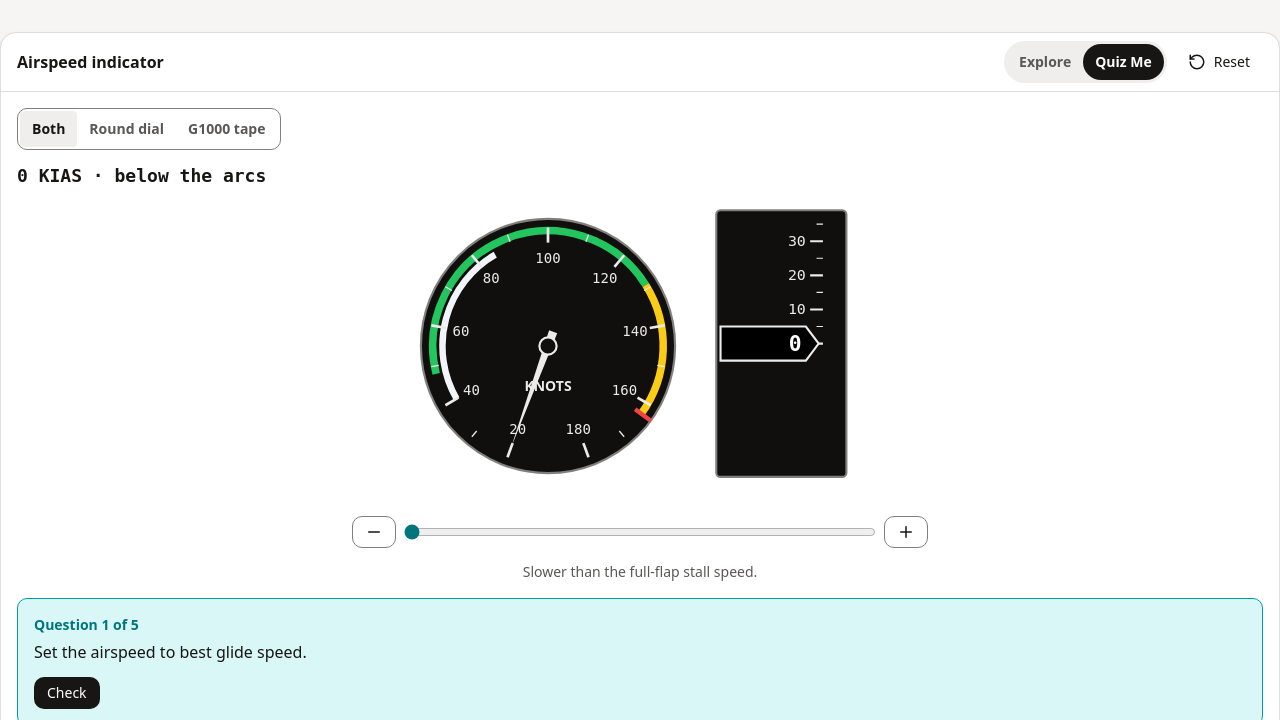
Test case: W3 Airspeed indicator › runs the quiz mode and reports answers
This screenshot has width=1280, height=720.
Expected: the text "Set the airspeed to best glide speed." is shown, [34,641,307,663]
Step 1. Set the slider named "Airspeed in knots" to "69" → (587, 532), box [404,510,876,554]
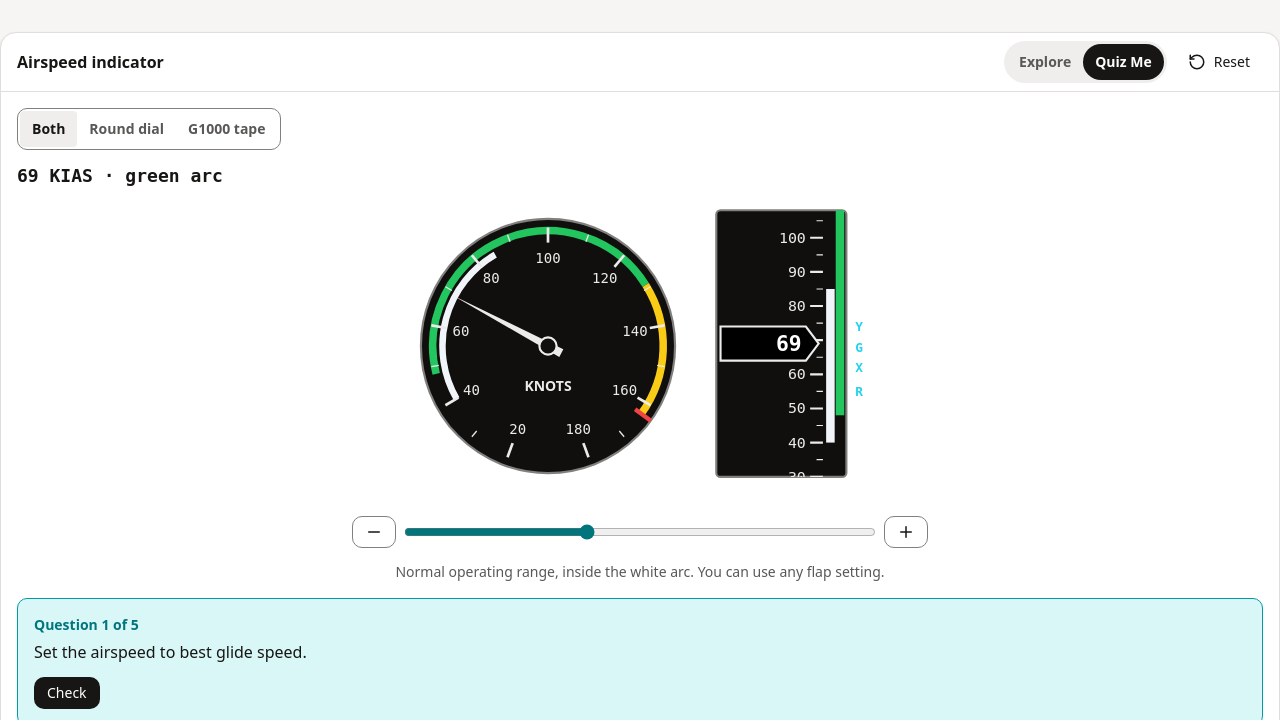
Step 2. Click the button "Check" → (67, 693), box [34,677,100,709]
(page scrolled)
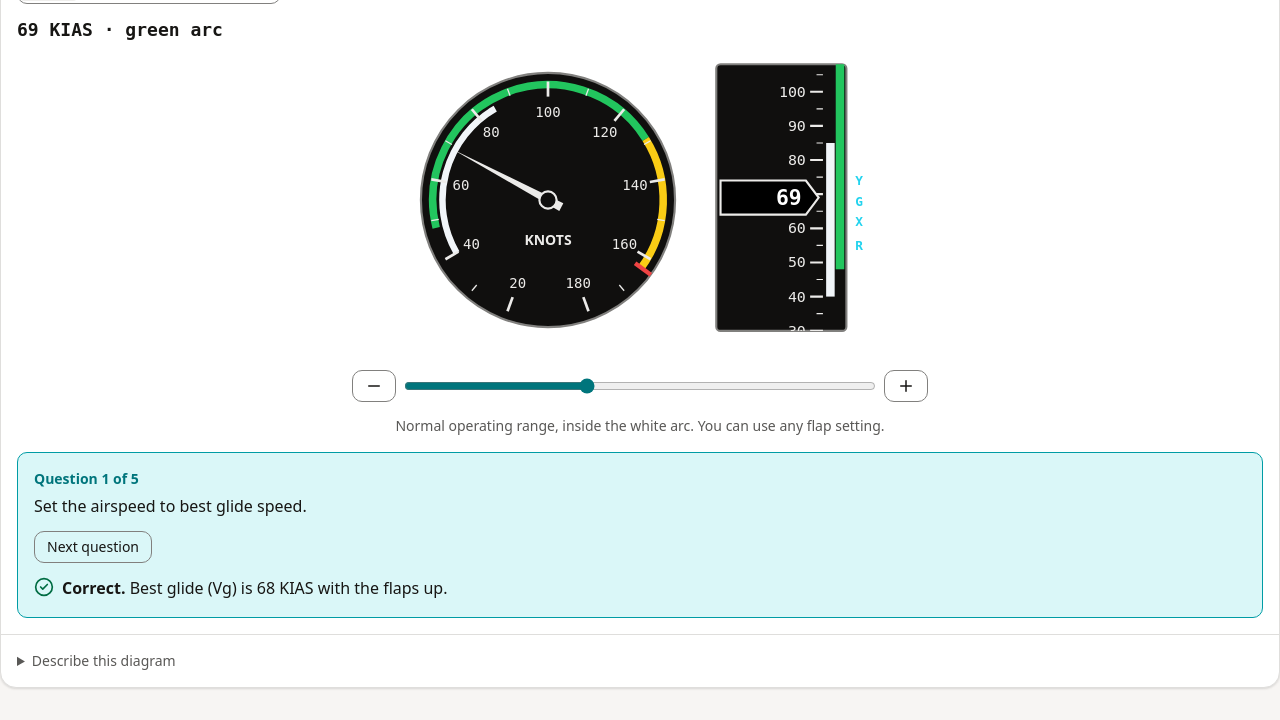
Expected: the text "Correct. Best glide (Vg) is 68 KIAS with the flaps up." is shown, [62,575,447,601]
